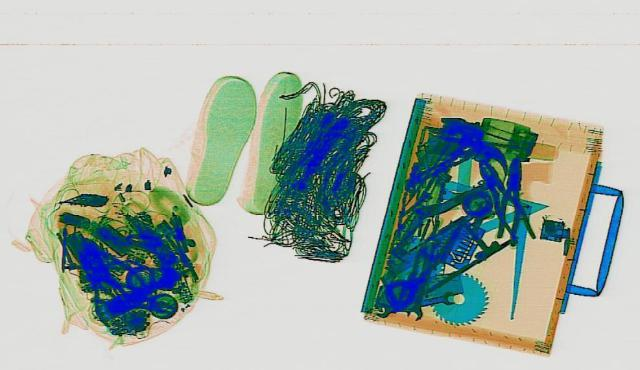Pliers: (466, 157, 538, 239), (492, 156, 526, 238)
